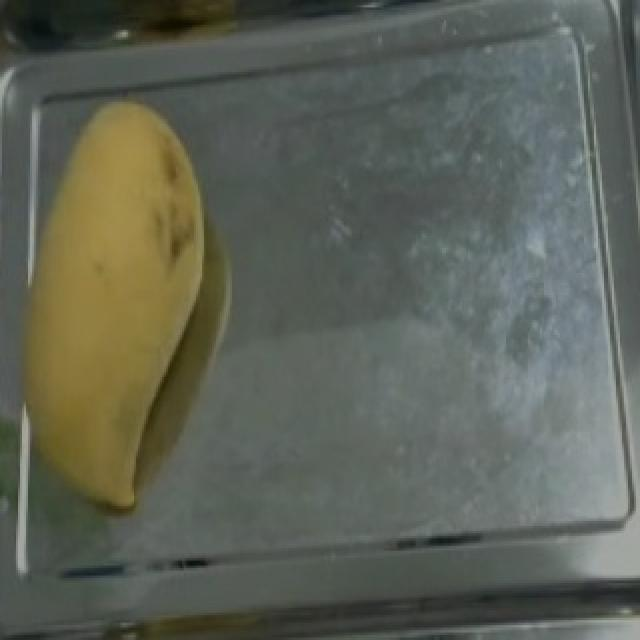fruit: (6, 79, 242, 464)
